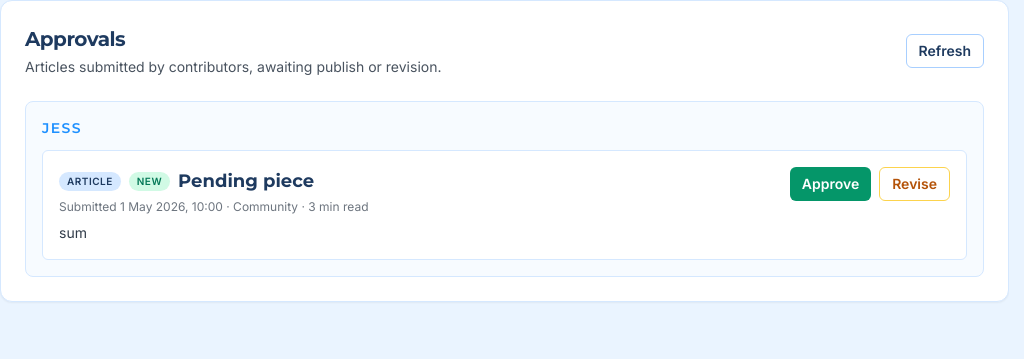
ApprovalsQueue › shows an error under an article when publish returns non-ok
The width and height of the screenshot is (1024, 359).
What coordinates should you click on to do the following:
click the button "Approve"
I would click on:
 (830, 184)
Its box is [790, 167, 871, 201].
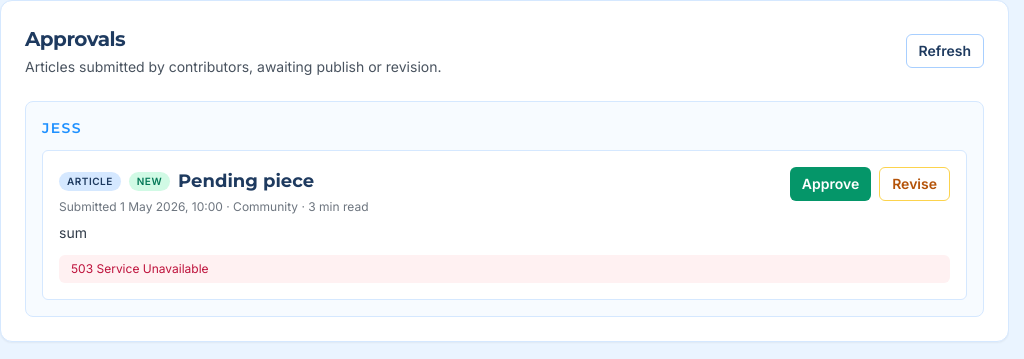
expect the text "503" is shown: met, box [71, 261, 209, 276]
